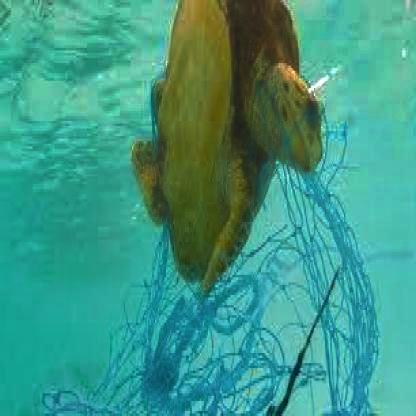net: (117, 154, 376, 416)
